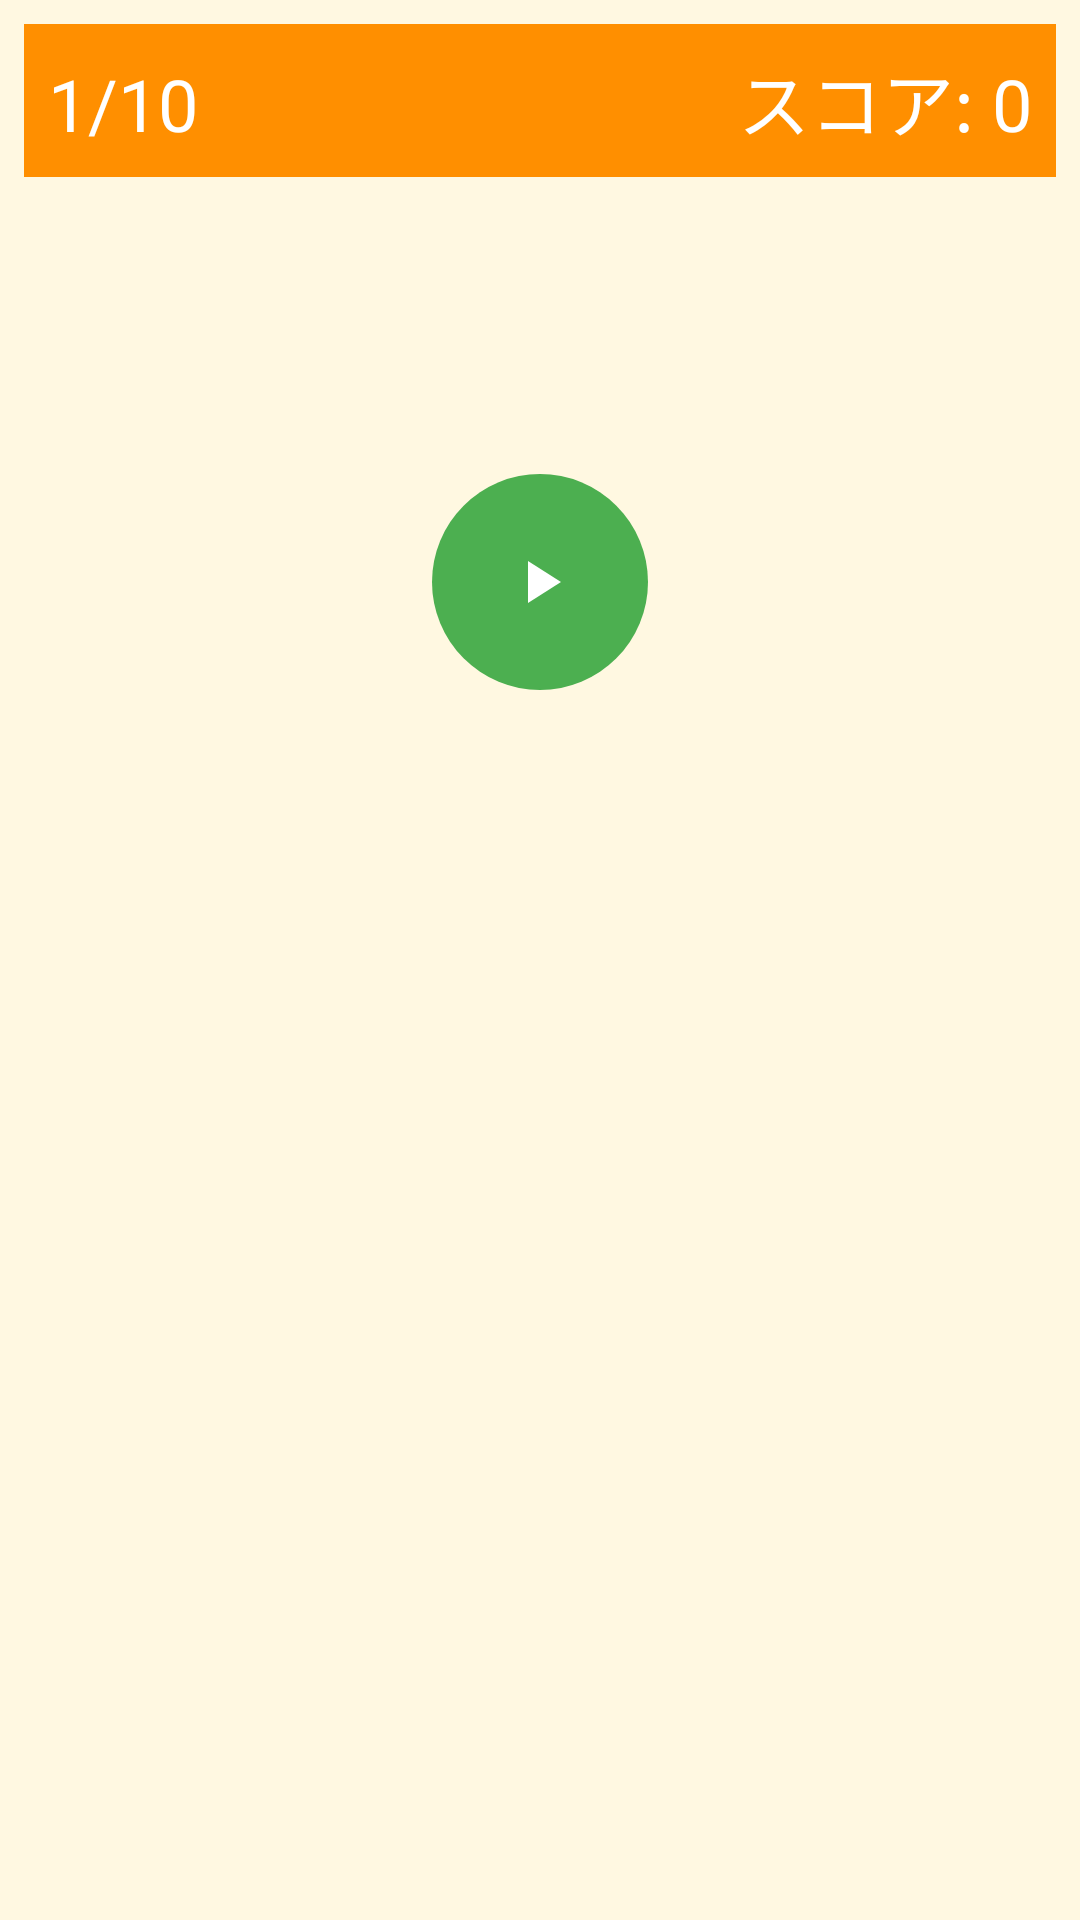

Icon click points for this 1080x1920 phone screenshot, format [x,y]:
再生: [540,582]
